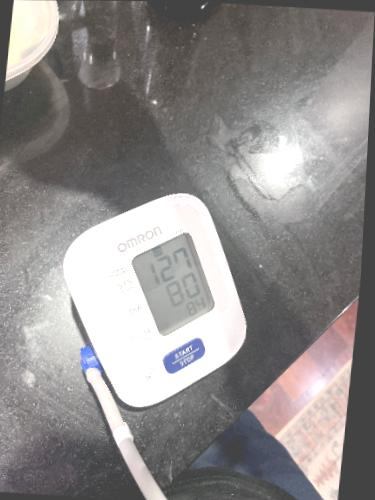bpm: (127, 231, 220, 342)
